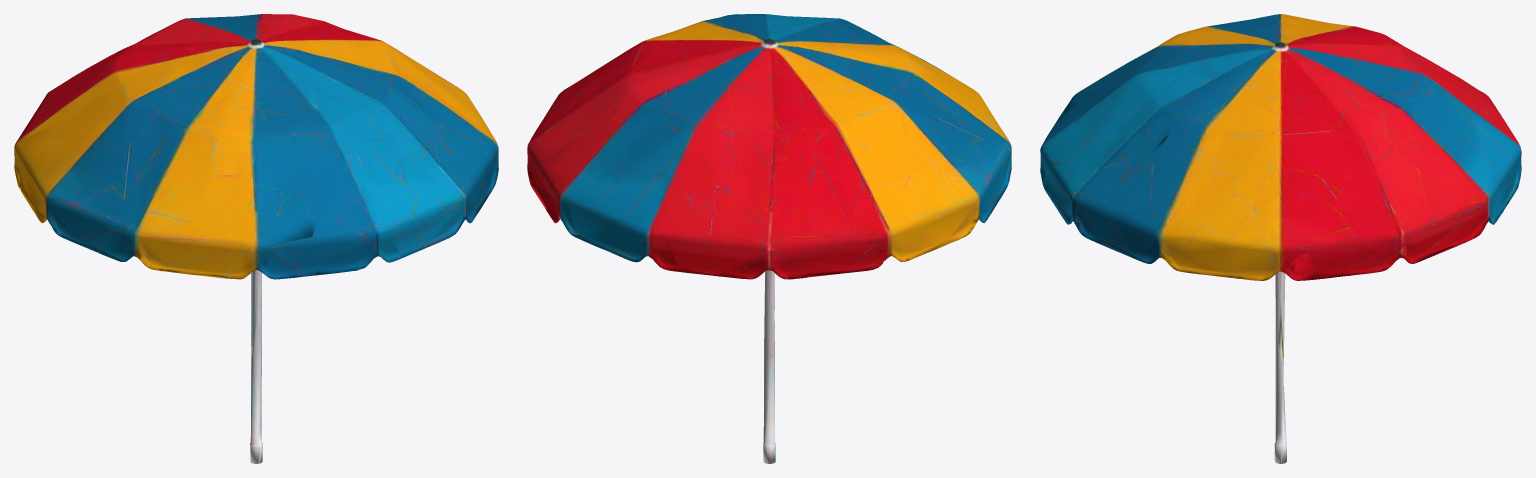
The model's file is beach_parasol.glb.
The picture shows the model from 3 angles, left to right: view 1: azimuth 30°, elevation 25°; view 2: azimuth 150°, elevation 25°; view 3: azimuth 270°, elevation 25°; orthographic projection.
Size of the model in its own units: 1.91 by 1.83 by 1.91.
1 material, 1 textured.
